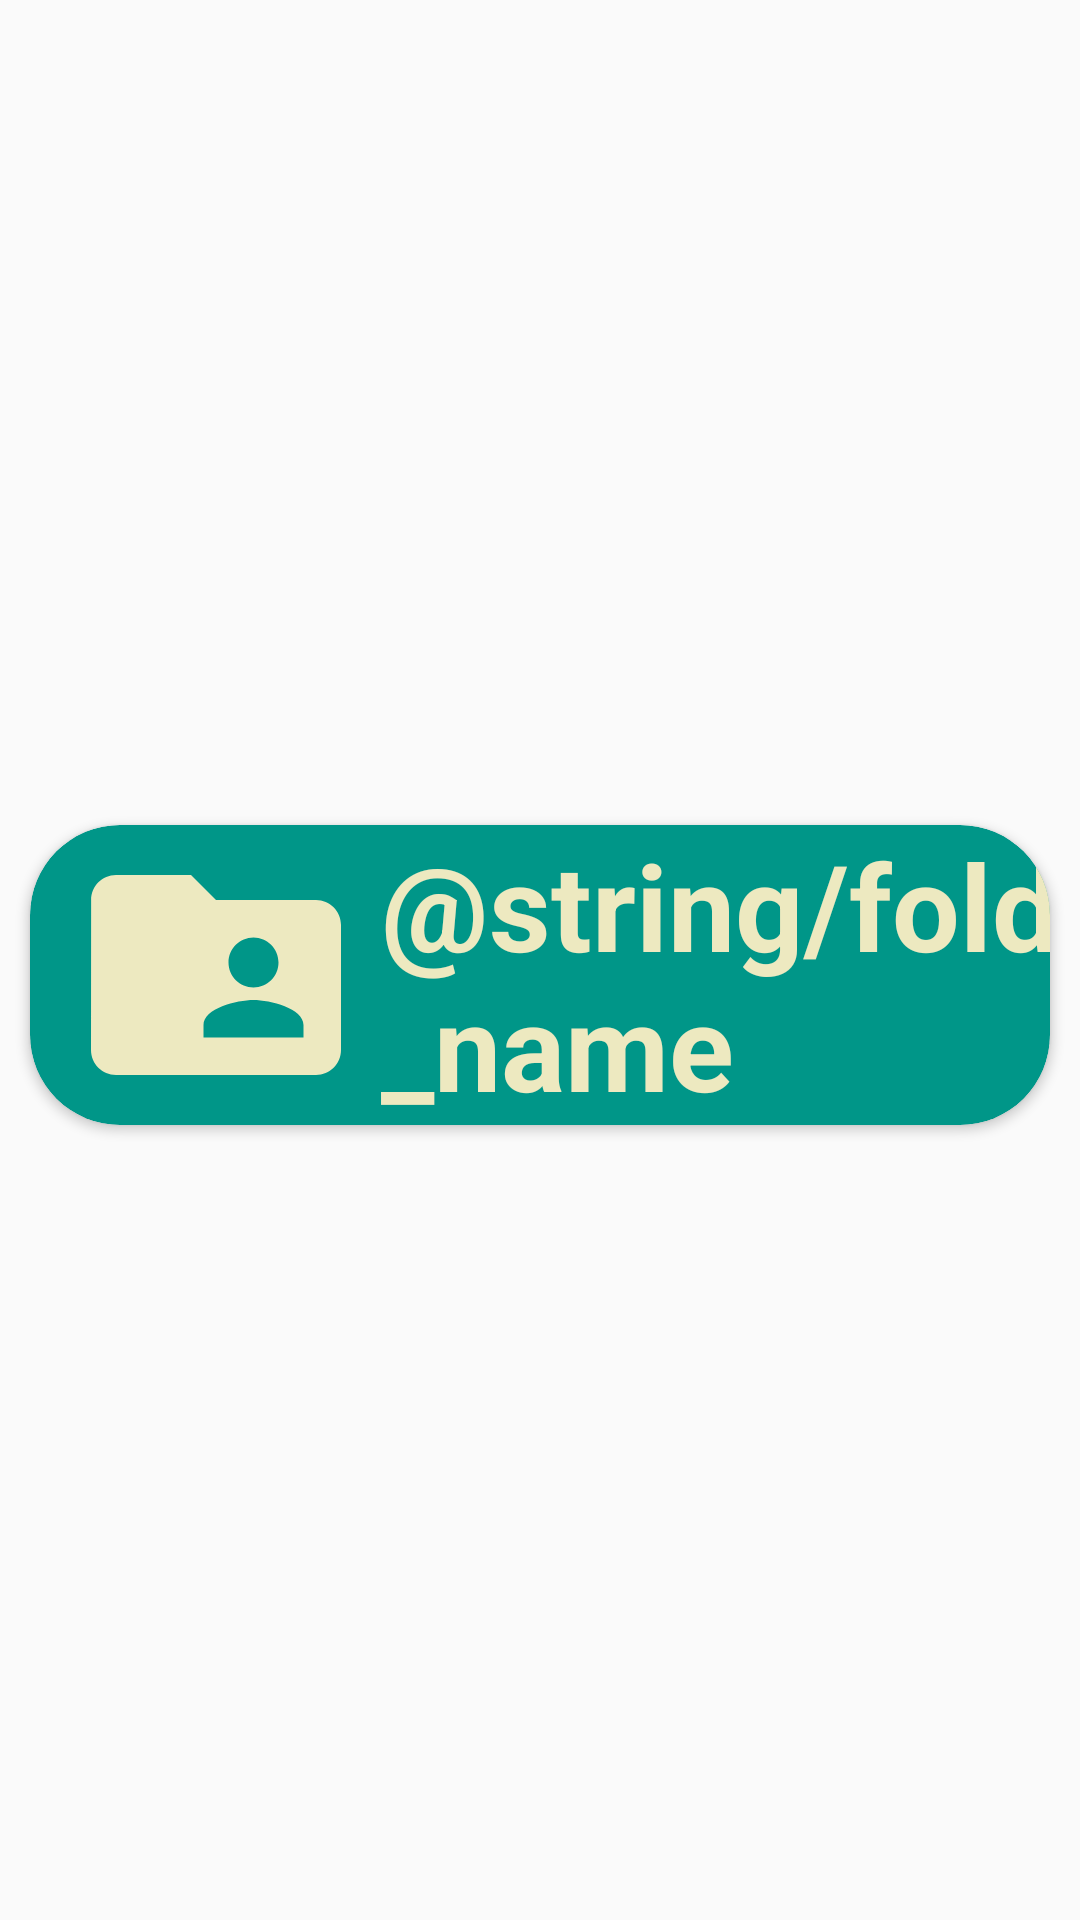

Where to tap for icons on this 1080×1920 app screen, as (x,y):
folder shared: (216,975)
